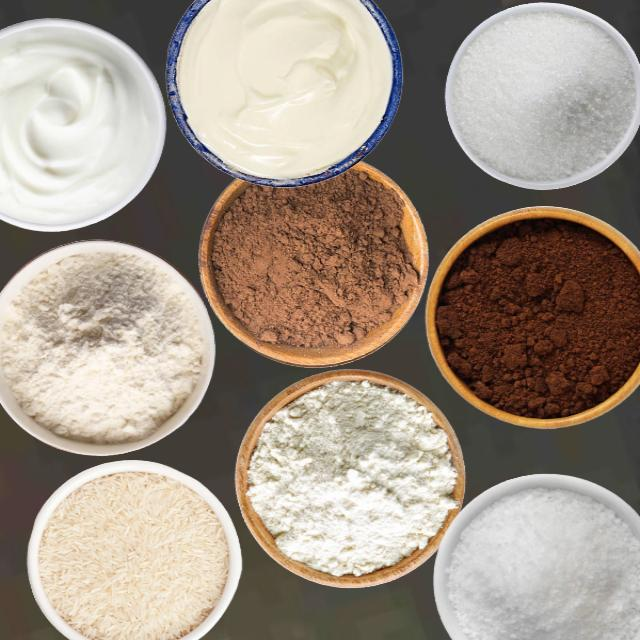Cocoa: (203, 165, 424, 363)
Coffee: (433, 214, 639, 420)
Flour: (245, 378, 459, 577), (0, 250, 204, 444)
Sugar: (446, 2, 638, 186), (445, 486, 639, 639)
